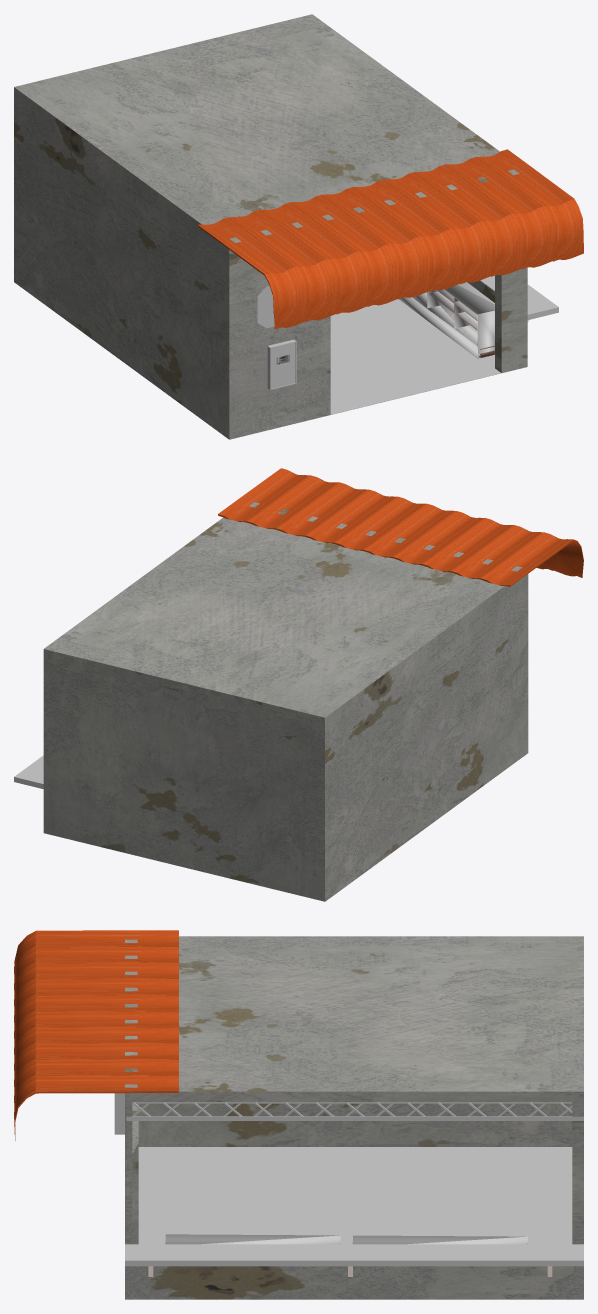
File: tiendita.fbx
3 renders of one model, top to bottom at view 1: azimuth 30°, elevation 25°; view 2: azimuth 150°, elevation 25°; view 3: azimuth 270°, elevation 25°, orthographic. The views are drawn at different scales.
Visible parts, largest first — view 1: Estructura muros, Carpota, Piso, 0______011.001, Cubo.001, Estructura muros.001; view 2: Estructura muros, Carpota, Estructura muros.001; view 3: Estructura muros, Piso, Carpota, Estructura muros.001, Cubo.003, 0______011.001.
Part boxes in pixels (left/top/right/bottom): Estructura muros: left=14, top=14, right=527, bottom=439; Carpota: left=197, top=149, right=583, bottom=329; Piso: left=330, top=299, right=501, bottom=414; 0______011.001: left=399, top=282, right=494, bottom=358; Cubo.001: left=267, top=339, right=296, bottom=389; Estructura muros.001: left=481, top=275, right=558, bottom=319; Estructura muros: left=43, top=502, right=528, bottom=901; Carpota: left=218, top=468, right=583, bottom=586; Estructura muros.001: left=14, top=755, right=43, bottom=788; Estructura muros: left=125, top=936, right=583, bottom=1299; Piso: left=138, top=1147, right=572, bottom=1244; Carpota: left=14, top=930, right=178, bottom=1140; Estructura muros.001: left=125, top=1244, right=583, bottom=1266; Cubo.003: left=126, top=1102, right=583, bottom=1120; 0______011.001: left=165, top=1234, right=527, bottom=1244.
Size of the model in its own units: 723 by 406 by 993.
